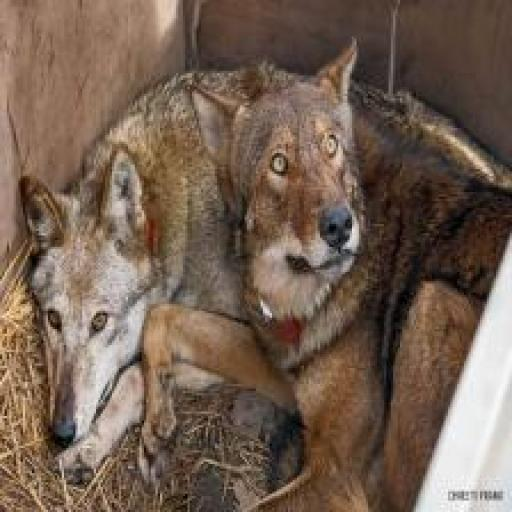wolf: (185, 48, 511, 512), (16, 57, 248, 454)
